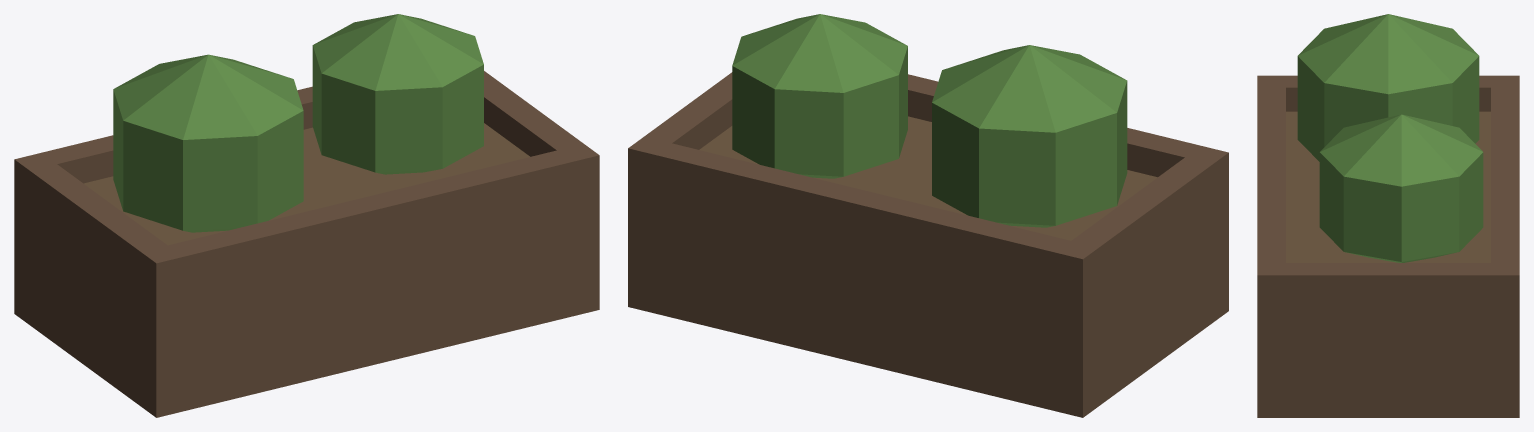
Rendered from planter.glb.
3 renders of one model, left to right at view 1: azimuth 30°, elevation 25°; view 2: azimuth 150°, elevation 25°; view 3: azimuth 270°, elevation 25°, orthographic. The views are drawn at different scales.
Parts seen in each view (by area): view 1: SM_ENV_planter; view 2: SM_ENV_planter; view 3: SM_ENV_planter.
Boxes of the visible parts, x1,y1,x2,y2 form: SM_ENV_planter: (14, 14, 599, 417); SM_ENV_planter: (628, 14, 1228, 417); SM_ENV_planter: (1257, 14, 1519, 417).
Size of the model in its own units: 1.8 by 1.09 by 1.
